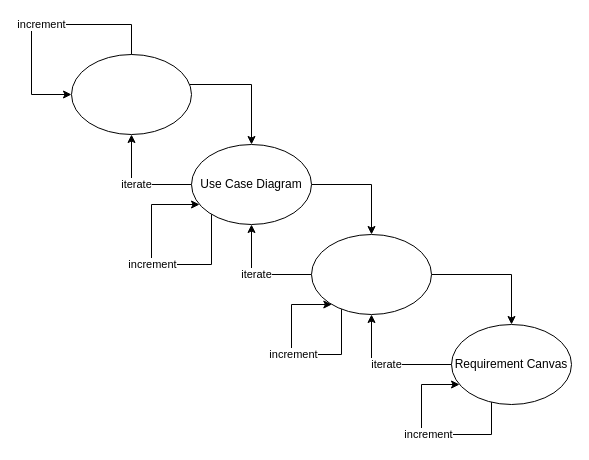
The diagram is 589 pixels wide and 460 high, and some of its shapes have lost their labels. The shapes that lost their labels are listed below. From the top down, each one's centre as x and y in pixels, then its label:
At point (131, 94): "Goal Diagram".
At point (371, 274): "Feature Model".
